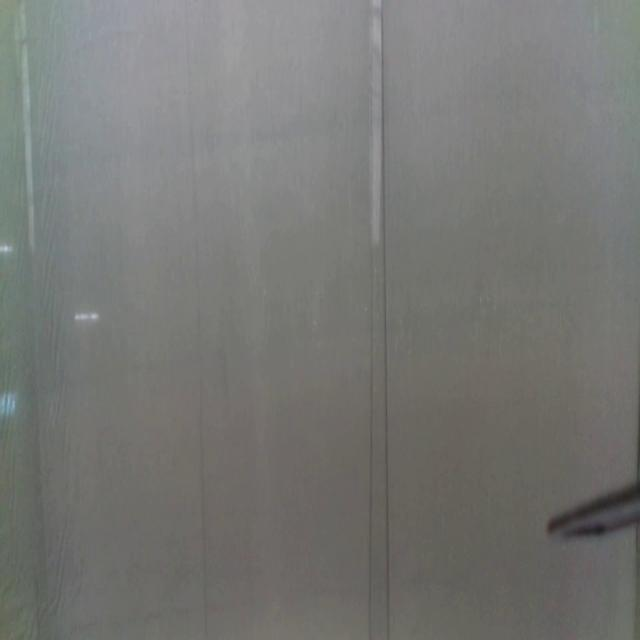crease: (182, 2, 208, 626), (378, 0, 392, 640), (366, 2, 374, 640)
